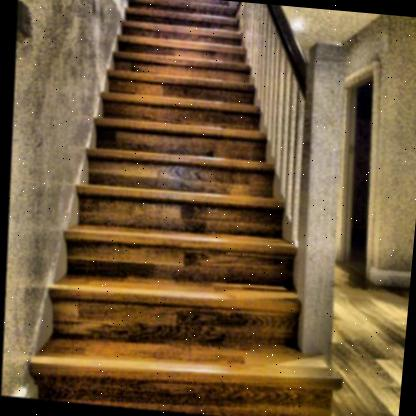stair: (28, 0, 337, 410)
